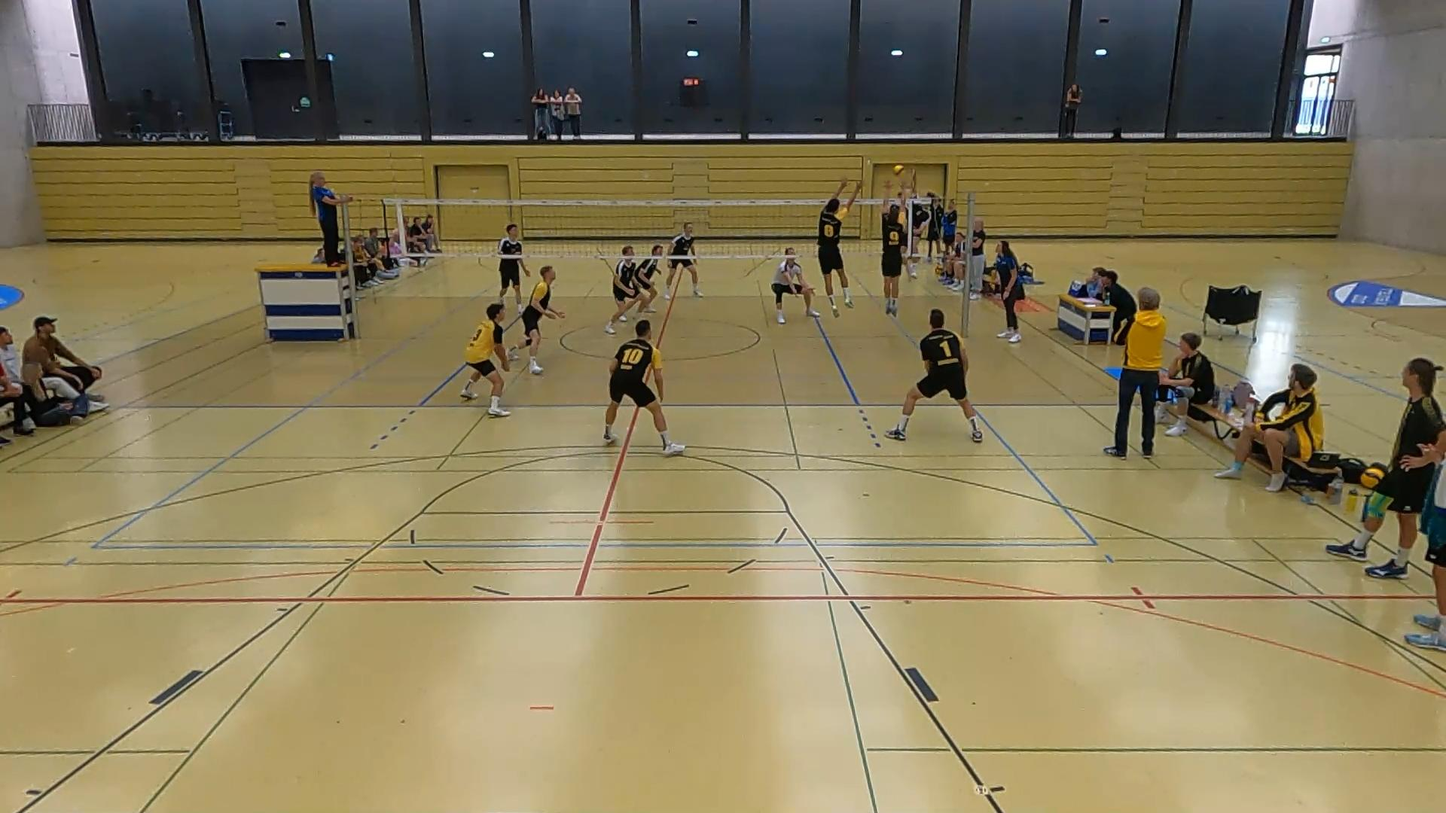muro: (810, 177, 873, 314), (880, 178, 909, 321)
